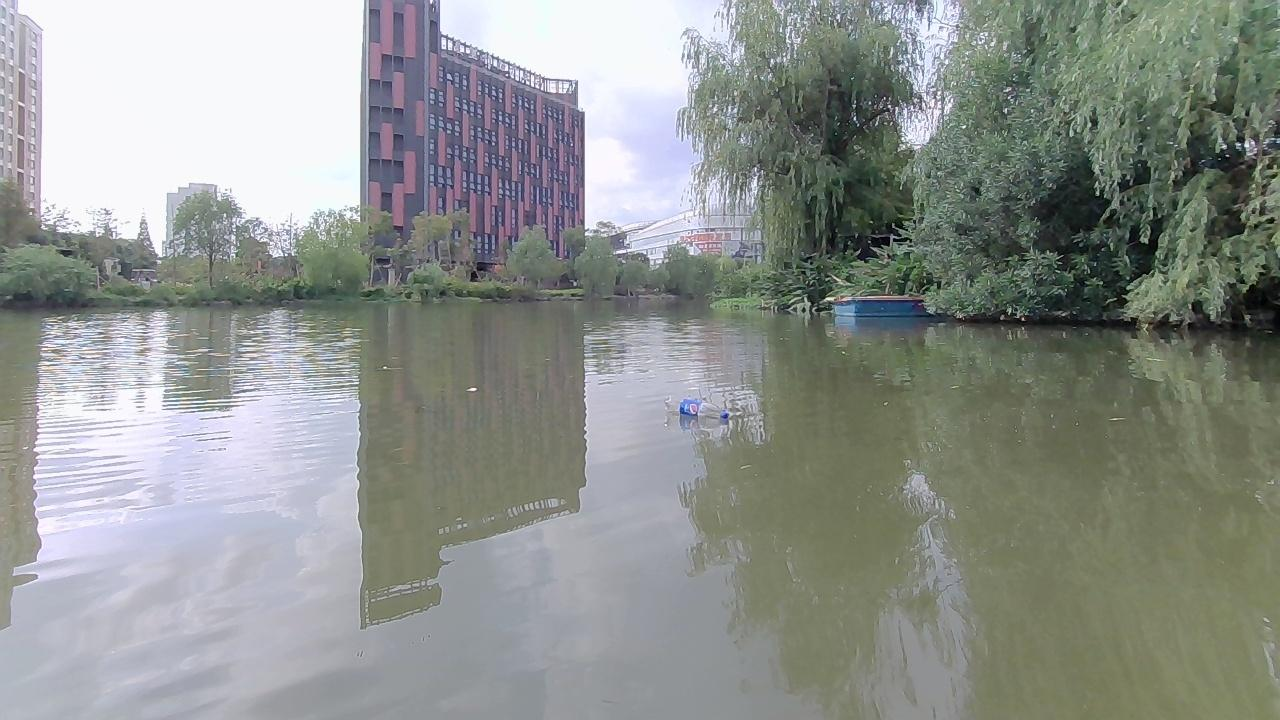bottle: (661, 387, 736, 427)
